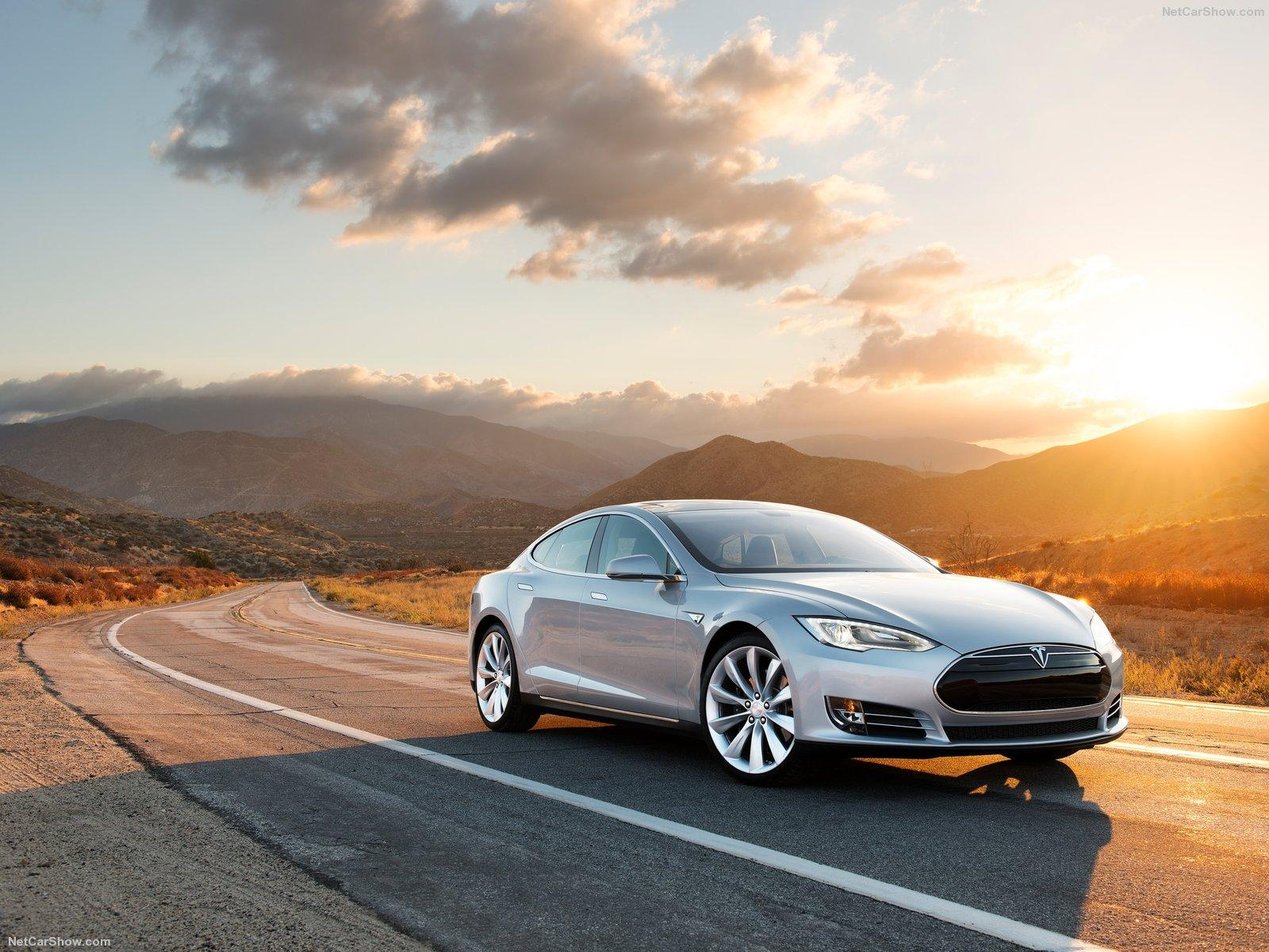Tesla: (1029, 645, 1046, 666)
